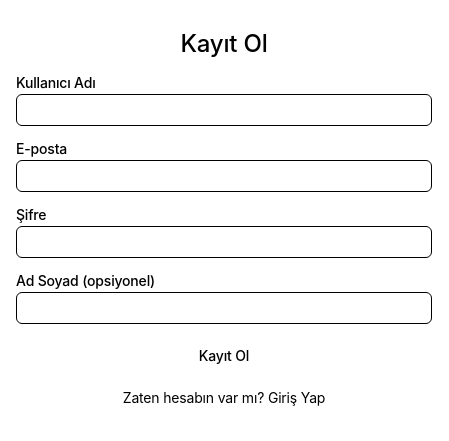
Test: RegisterPage › mevcut email ile kayıtta hata göstermeli
Step 1. Type "someone" into the field labelled "Kullanıcı Adı" → x=224, y=110, box [16,94,432,126]
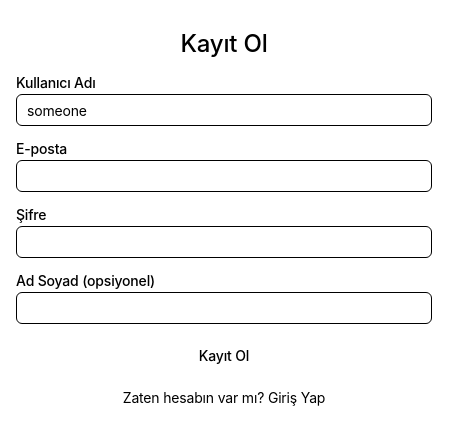
Step 2. Type "existing@example.com" into the field labelled "E-posta" → x=224, y=176, box [16,160,432,192]
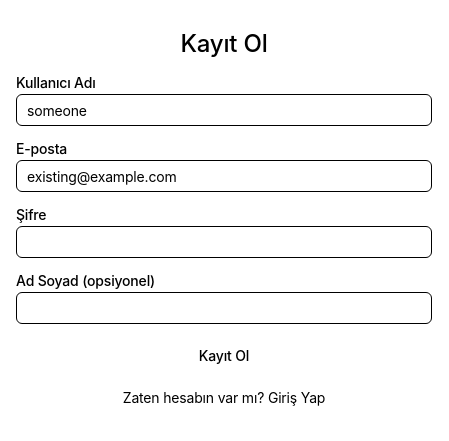
Step 3. Type "123456" into the password field labelled "Şifre" → x=224, y=242, box [16,226,432,258]
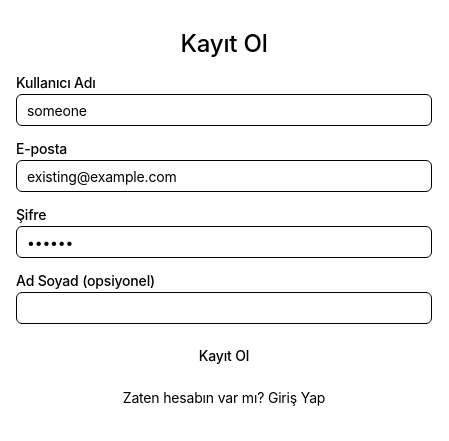
Step 4. Click the button "Kayıt Ol" → x=224, y=356, box [16,340,432,372]
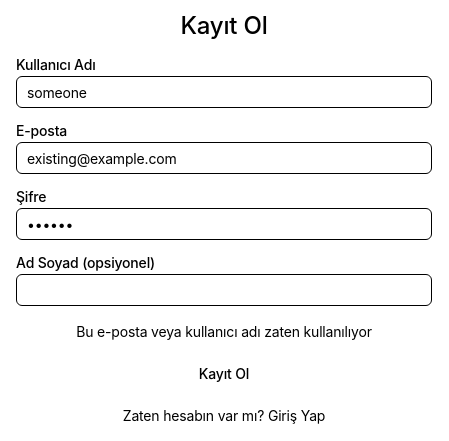
expect the text "Bu e-posta veya kullanıcı adı zaten kullanılıyor" is shown: met, box [76,323,372,340]
